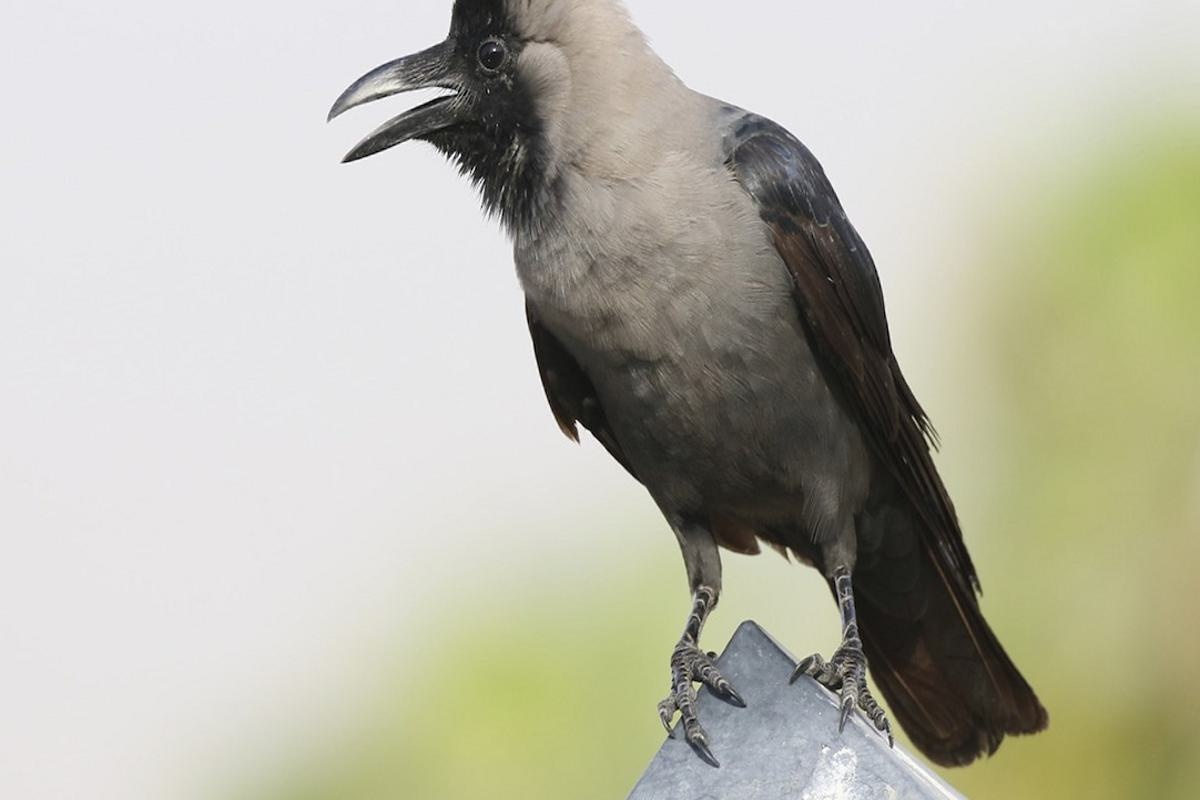crow: (323, 7, 1035, 799)
